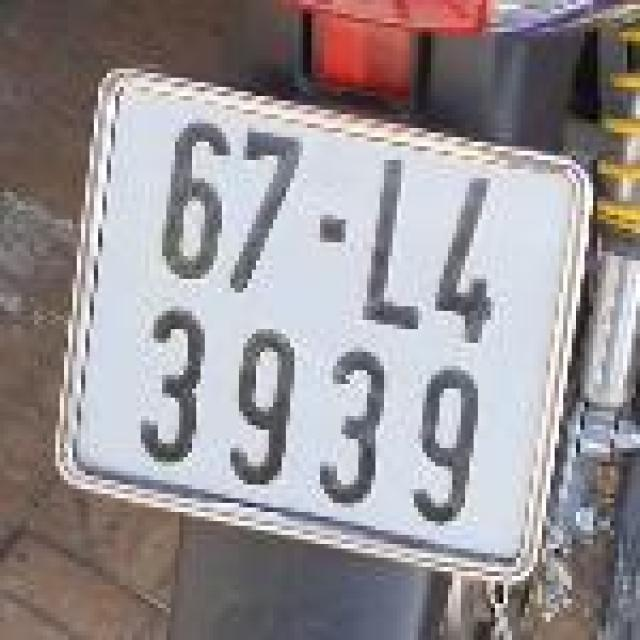3: (300, 327, 415, 523), (119, 297, 225, 483)
4: (424, 155, 525, 354)
6: (143, 104, 238, 290)
7: (208, 129, 319, 313)
9: (203, 305, 306, 513), (391, 341, 491, 539)
L: (347, 140, 452, 333)
